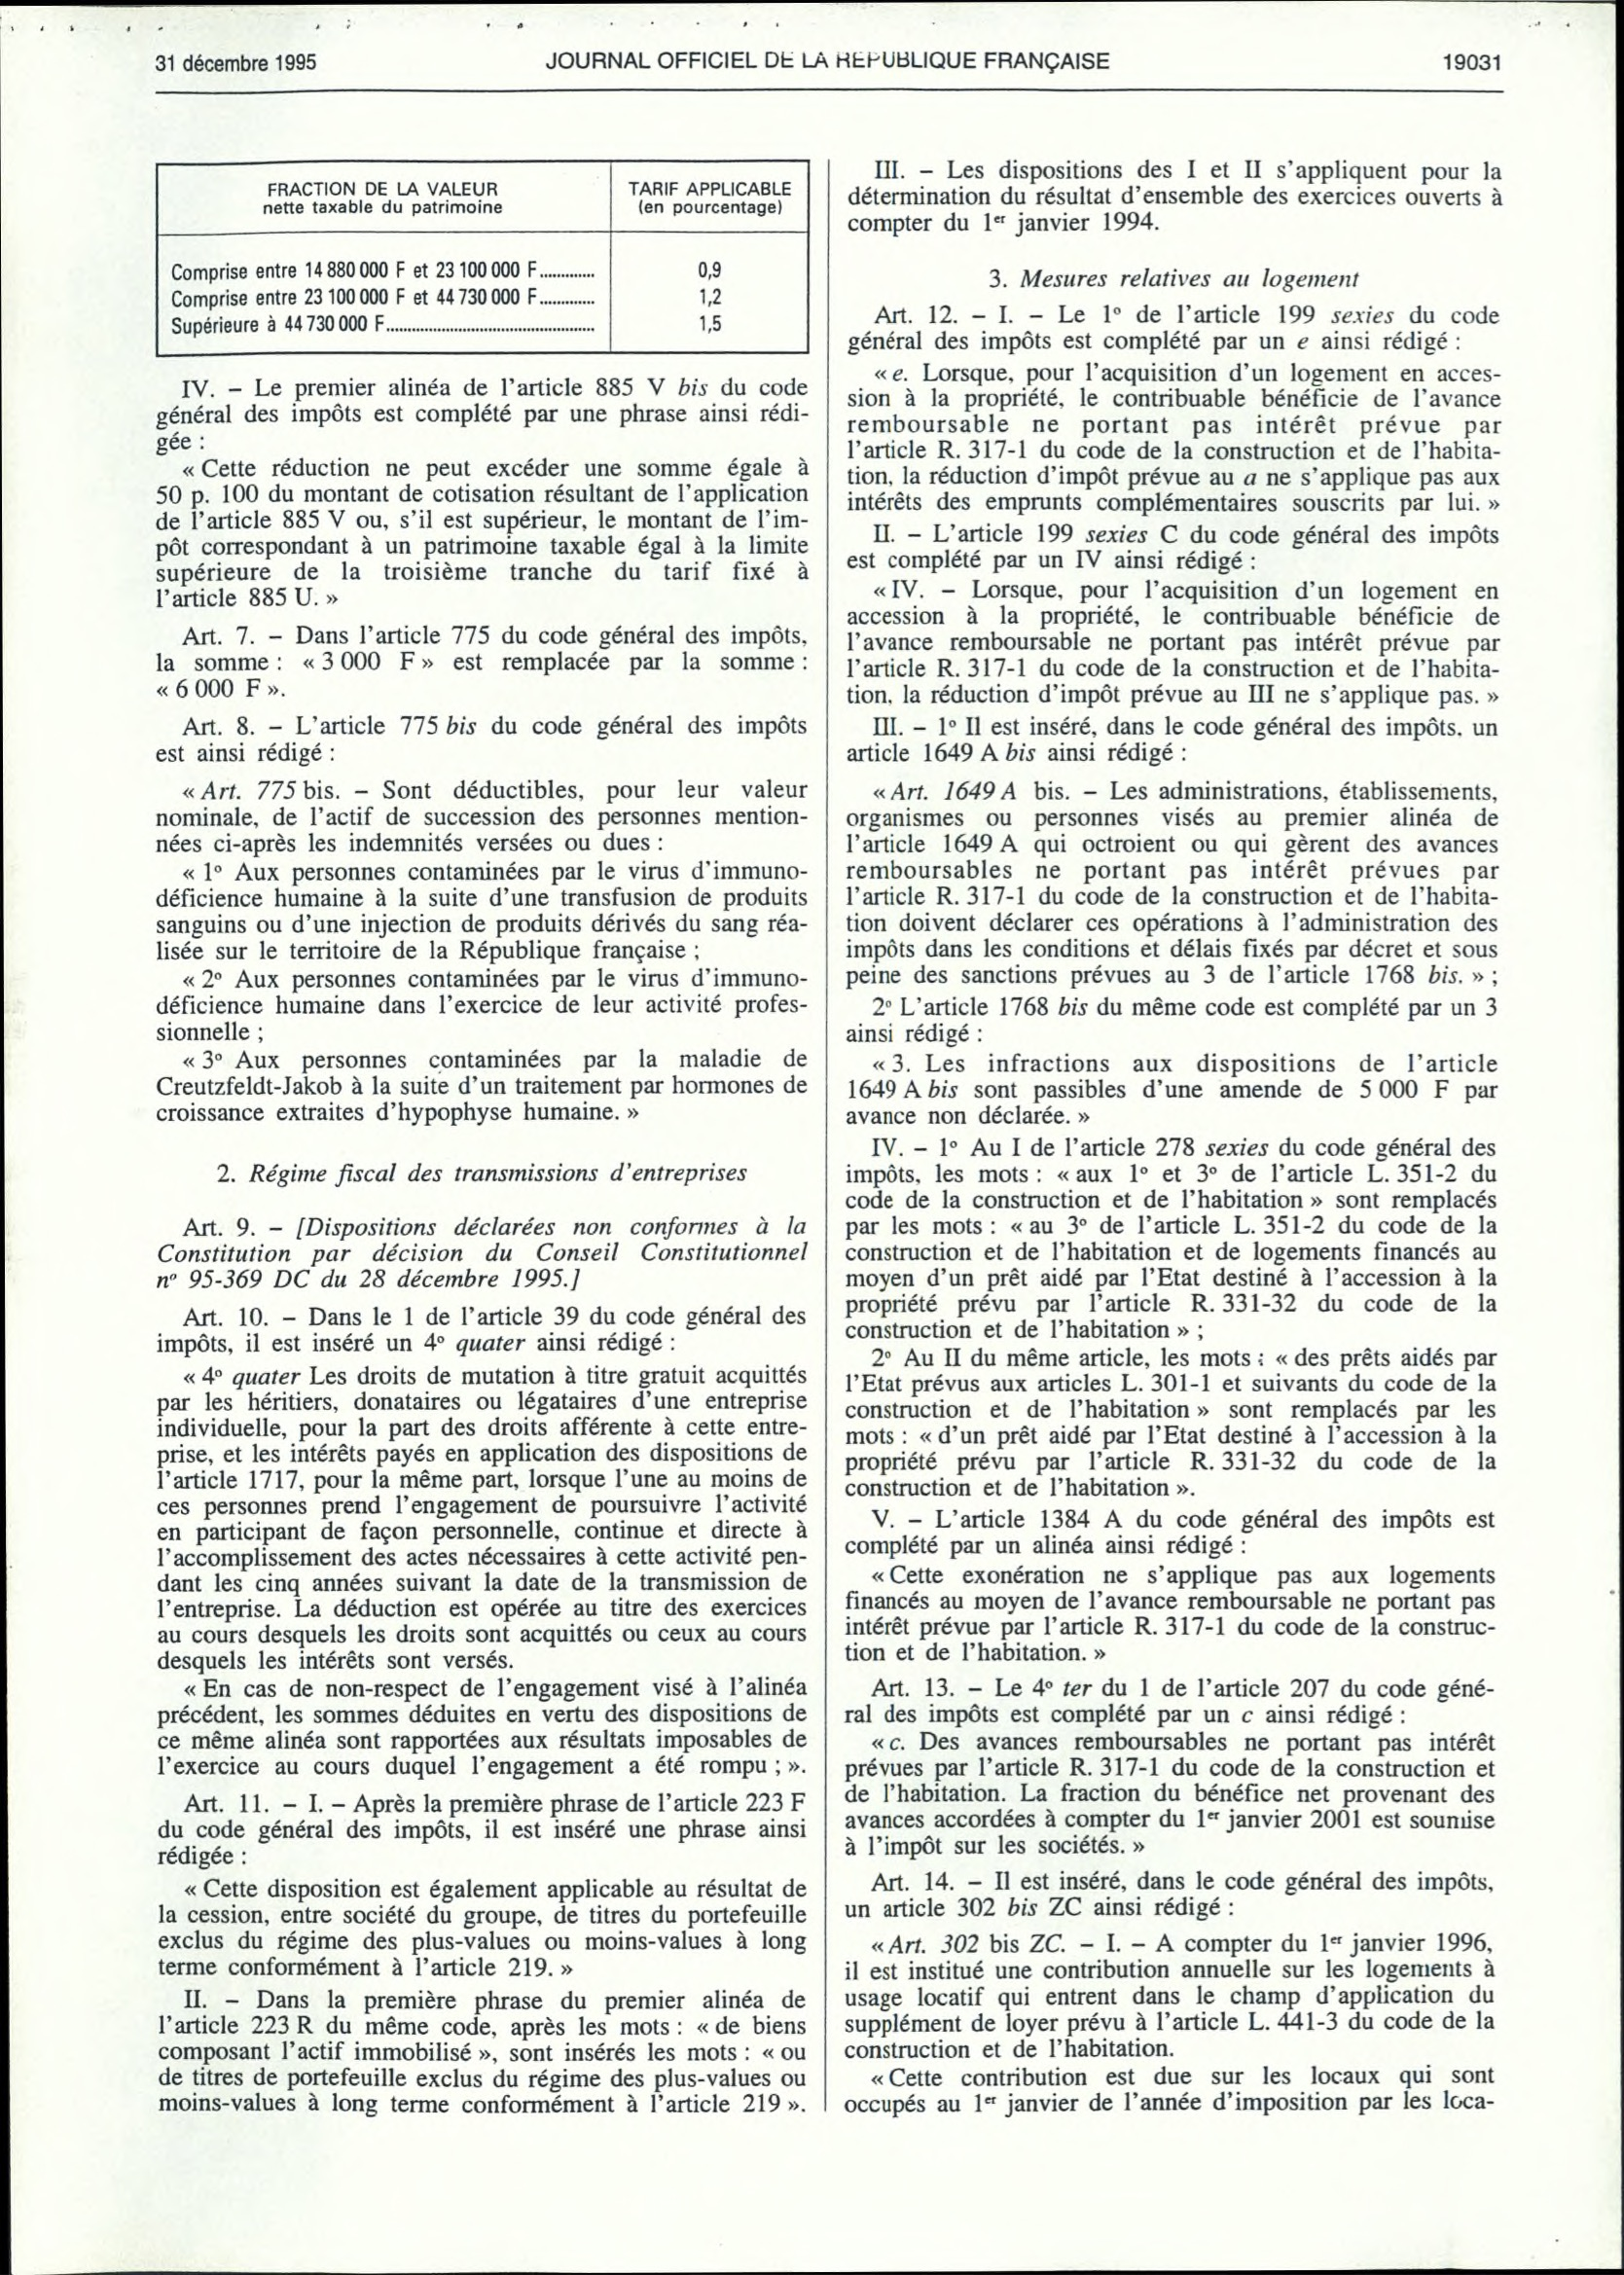MainZone-Date: (149, 44, 325, 84)
MainZone-Head: (195, 1153, 763, 1196), (975, 259, 1371, 296)
MainZone-ListItem: (149, 1361, 815, 1675), (839, 776, 1508, 992), (838, 1130, 1507, 1344), (840, 357, 1510, 518), (837, 1344, 1506, 1502), (149, 1983, 812, 2124), (835, 1927, 1504, 2063), (840, 575, 1509, 710), (836, 1729, 1505, 1860), (146, 858, 813, 963), (840, 150, 1512, 243), (145, 1043, 810, 1135), (145, 1208, 811, 1297), (145, 617, 816, 704), (144, 772, 814, 859), (149, 1787, 811, 1871), (149, 371, 815, 453), (147, 963, 814, 1045), (838, 1049, 1507, 1129), (145, 707, 816, 772), (145, 1298, 812, 1360), (839, 517, 1511, 577), (841, 298, 1506, 358), (839, 710, 1504, 771), (837, 1864, 1501, 1925), (836, 1673, 1506, 1730), (838, 991, 1507, 1048), (837, 1504, 1504, 1562)
MainZone-P: (148, 453, 815, 613), (147, 1873, 812, 1984), (147, 1674, 812, 1783), (836, 1562, 1505, 1668), (836, 2062, 1505, 2127)
NumberingZone: (1435, 45, 1506, 80)
RunningTitleZone: (534, 36, 1120, 81)
TableZone: (157, 154, 816, 357)
